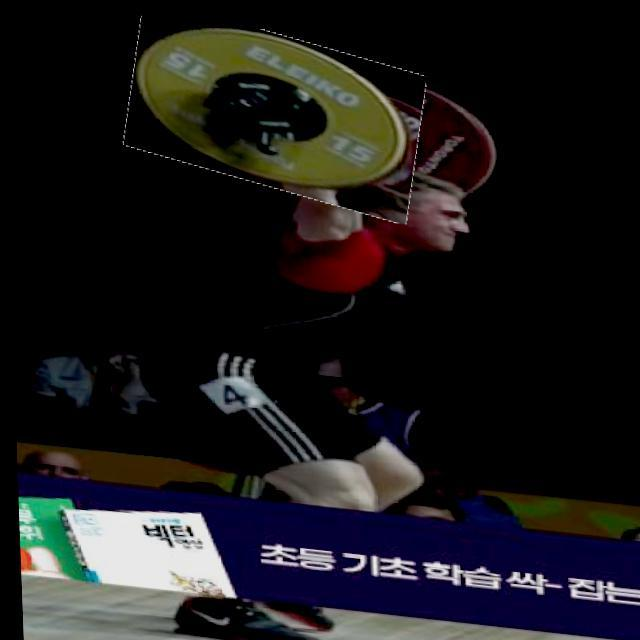barbell: (124, 12, 425, 206)
